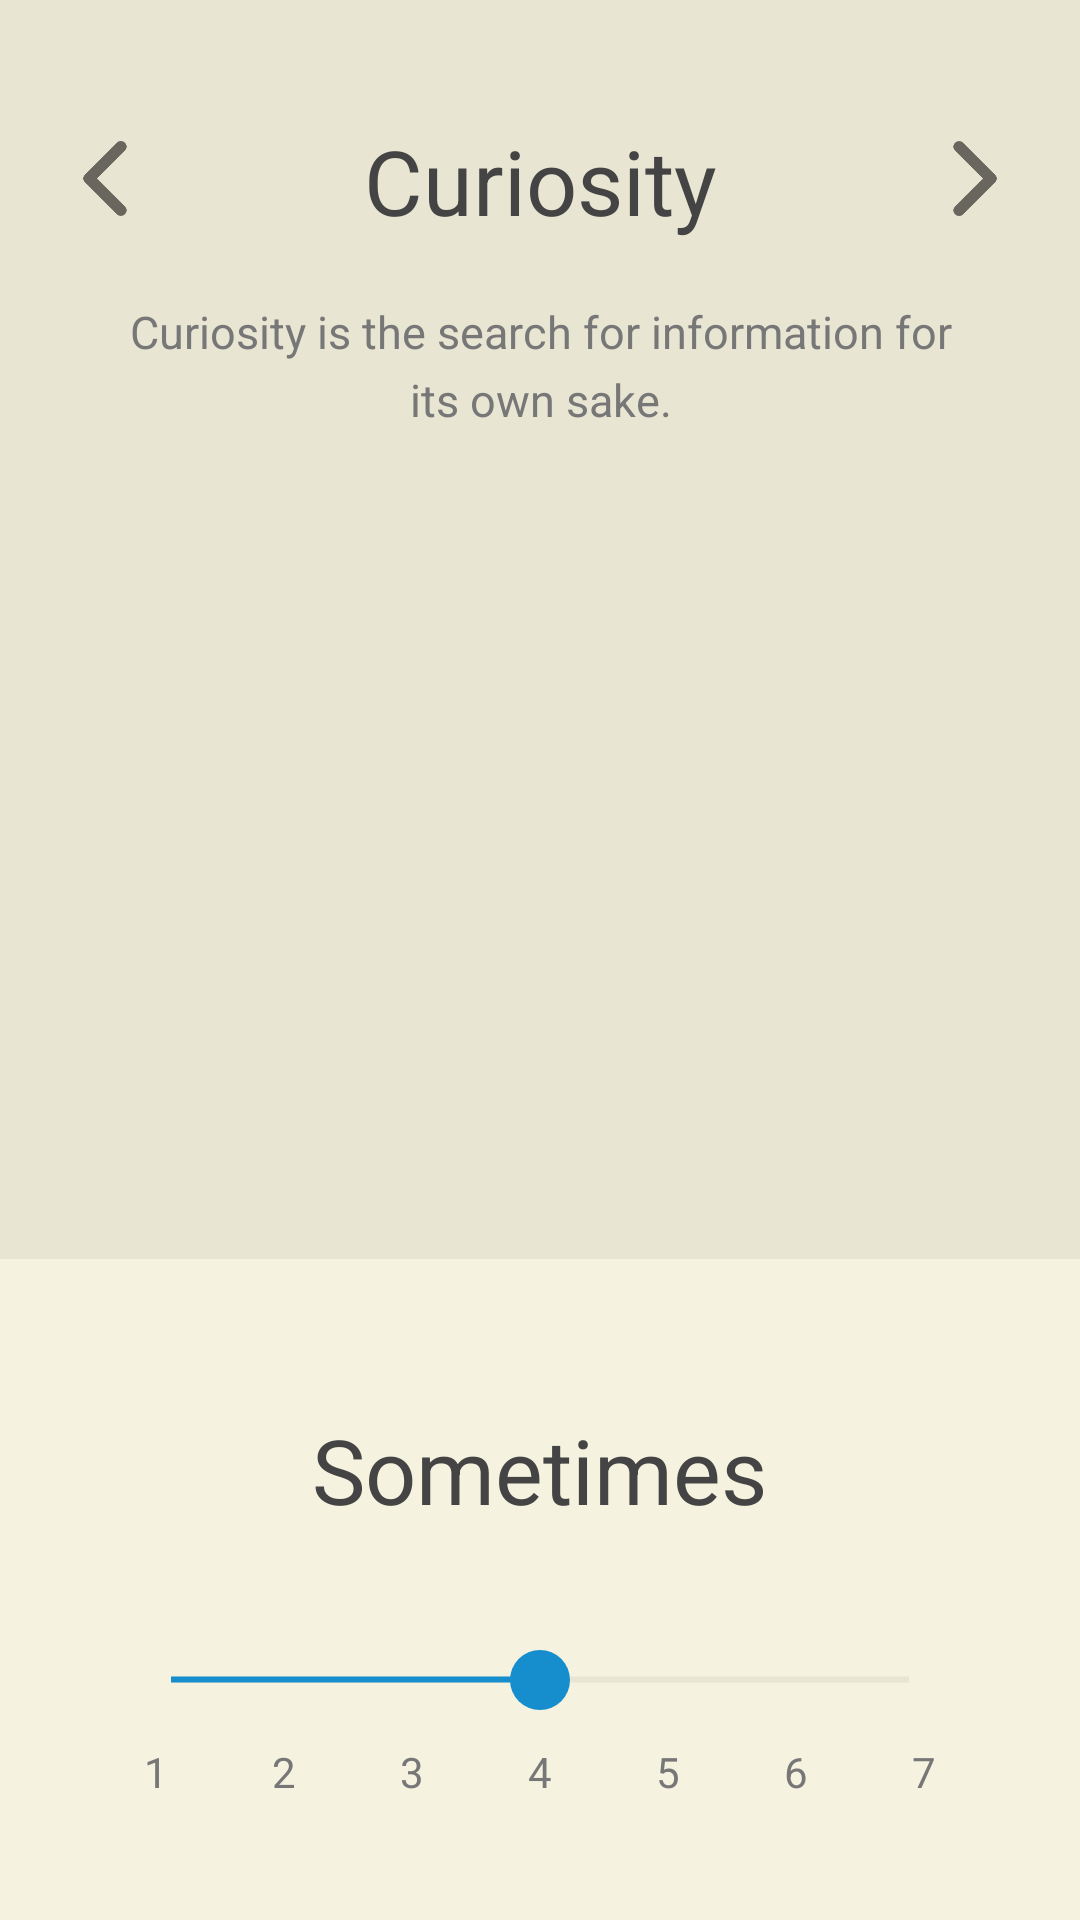

Named icons in this screenshot (1080px×1920px) and their bounding boxes, [x1, y1, x2, y2]:
arrow left: [83, 141, 127, 216]
arrow right: [953, 141, 997, 216]
